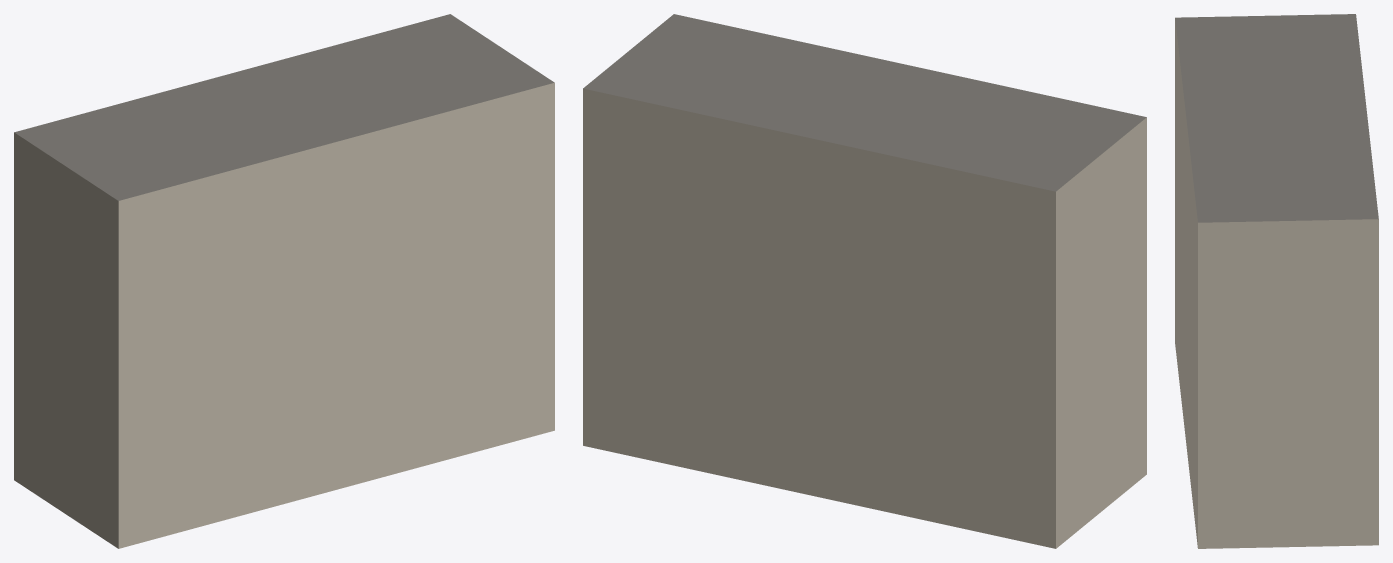
3 views of the same model, side by side, from view 1: azimuth 30°, elevation 25°; view 2: azimuth 150°, elevation 25°; view 3: azimuth 270°, elevation 25° (orthographic). The views are drawn at different scales.
Parts seen in each view (by area): view 1: HP-w858824300; view 2: HP-w858824300; view 3: HP-w858824300.
Part boxes in pixels (box(x1,y1,x2,y2)): HP-w858824300: box(14, 14, 554, 548); HP-w858824300: box(583, 14, 1146, 548); HP-w858824300: box(1175, 14, 1378, 548).
Size of the model in its own units: 24.71 by 18 by 10.19.
